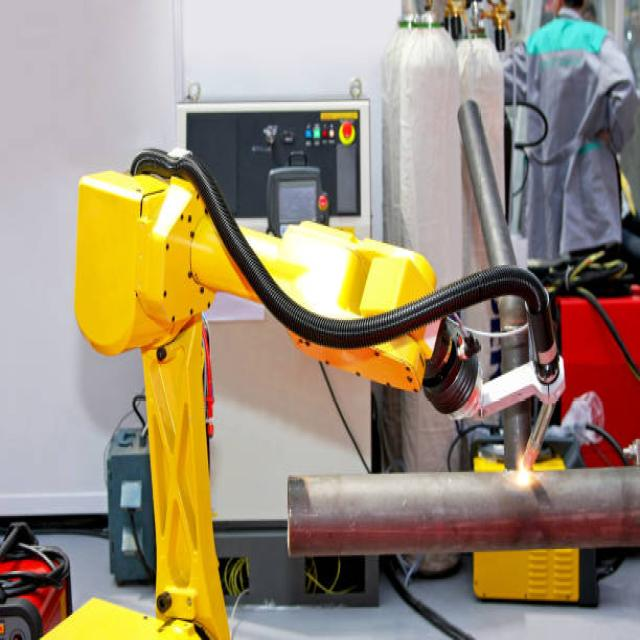Robotic-arm: (69, 144, 444, 640)
